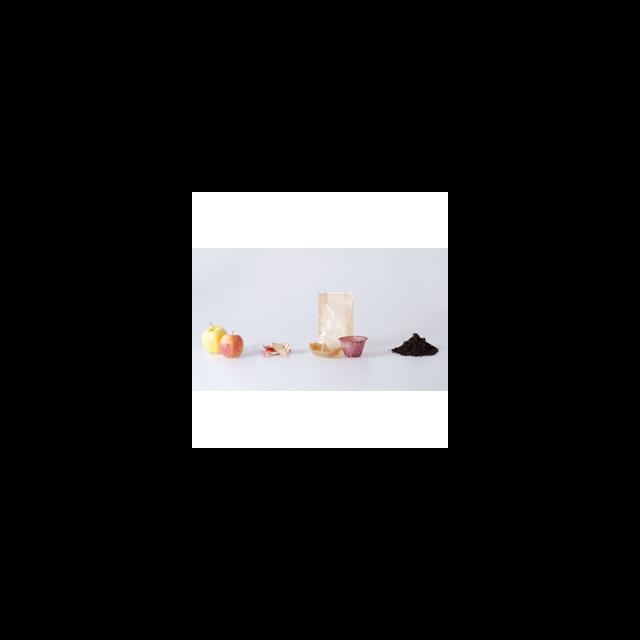food_waste: (202, 328, 230, 354), (221, 334, 245, 359), (262, 342, 292, 357)
